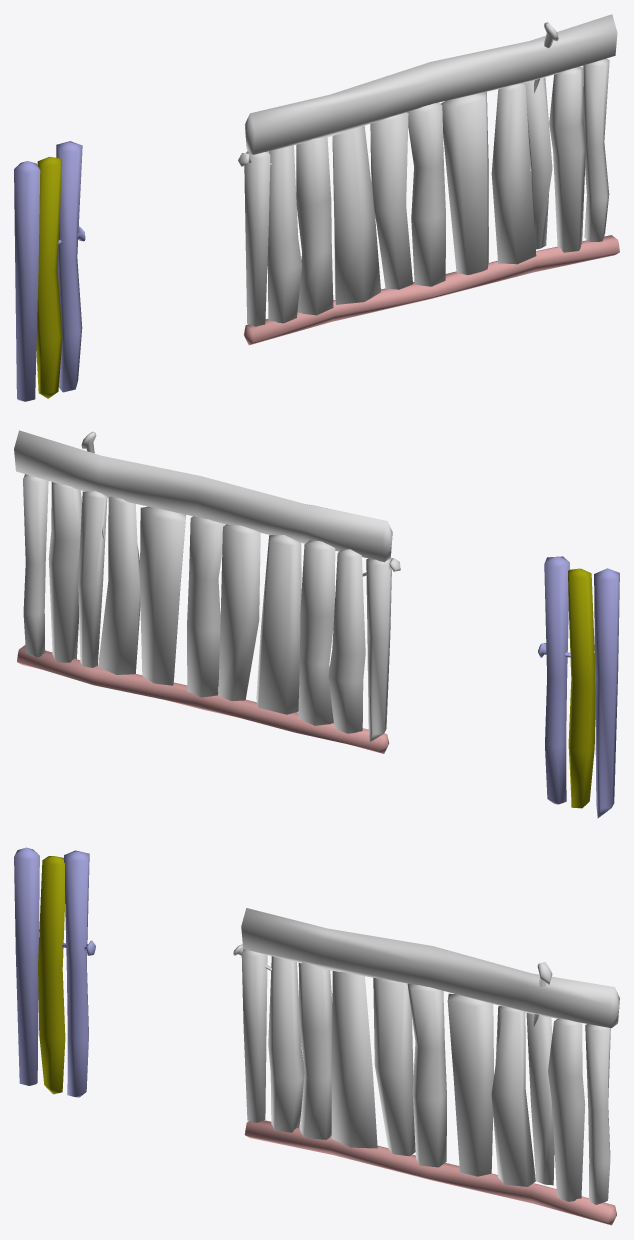
Rendered from PBW_W1_HalfWallDoorS.glb.
3 views of the same model, one above another, from view 1: azimuth 30°, elevation 25°; view 2: azimuth 150°, elevation 25°; view 3: azimuth 330°, elevation 25° (orthographic).
Parts seen in each view (by area): view 1: PBW_W1_HalfWallDoorS; view 2: PBW_W1_HalfWallDoorS; view 3: PBW_W1_HalfWallDoorS.
Part boxes in pixels (x1,y1,x2,y2): PBW_W1_HalfWallDoorS: (14, 14, 619, 401); PBW_W1_HalfWallDoorS: (14, 430, 619, 818); PBW_W1_HalfWallDoorS: (14, 847, 619, 1225).
Size of the model in its own units: 5.22 by 2.12 by 0.2621.
